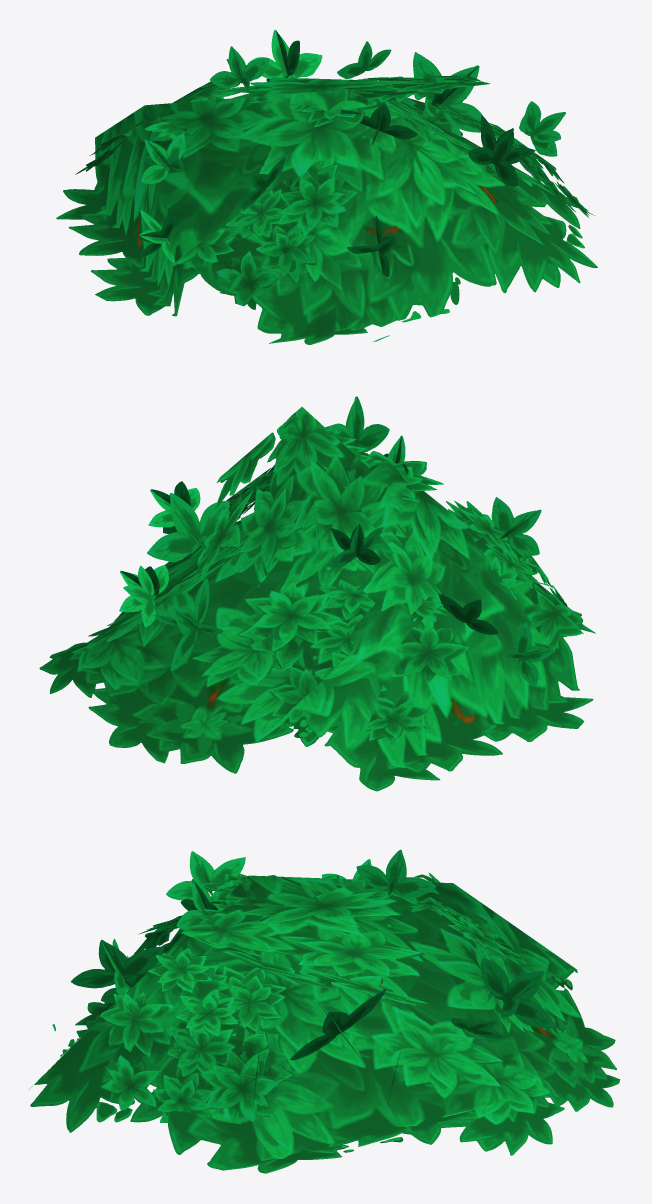
Rendered from 1_Arbusto_Verde_Oscuro_LOD_1.fbx.
The picture shows the model from 3 angles, top to bottom: view 1: azimuth 30°, elevation 25°; view 2: azimuth 150°, elevation 25°; view 3: azimuth 270°, elevation 25°; orthographic projection. The views are drawn at different scales.
Parts seen in each view (by area): view 1: 1_Arbusto_Verde_Oscuro_LOD_1; view 2: 1_Arbusto_Verde_Oscuro_LOD_1; view 3: 1_Arbusto_Verde_Oscuro_LOD_1.
Boxes of the visible parts, left/top/right/bottom form: 1_Arbusto_Verde_Oscuro_LOD_1: left=56, top=30, right=597, bottom=344; 1_Arbusto_Verde_Oscuro_LOD_1: left=39, top=396, right=595, bottom=791; 1_Arbusto_Verde_Oscuro_LOD_1: left=29, top=849, right=620, bottom=1173.
Bounding box in the file's own units: 448 × 174 × 470.
